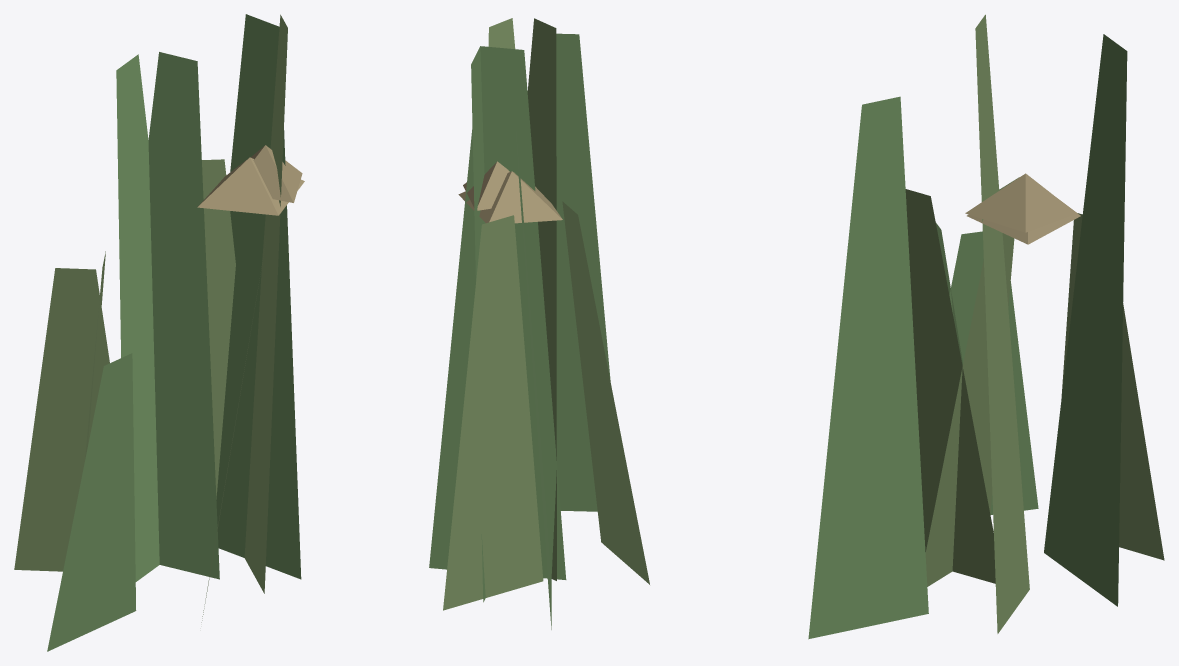
Rendered from shrub.trop.savanna_grass__summer.glb.
3 renders of one model, left to right at view 1: azimuth 30°, elevation 25°; view 2: azimuth 150°, elevation 25°; view 3: azimuth 270°, elevation 25°, orthographic. The views are drawn at different scales.
Parts seen in each view (by area): view 1: shrub.trop.savanna_grass__summer; view 2: shrub.trop.savanna_grass__summer; view 3: shrub.trop.savanna_grass__summer.
Boxes of the visible parts, x1=… form: shrub.trop.savanna_grass__summer: x1=14, y1=14, x2=304, y2=651; shrub.trop.savanna_grass__summer: x1=429, y1=18, x2=649, y2=629; shrub.trop.savanna_grass__summer: x1=808, y1=14, x2=1164, y2=639.
Size of the model in its own units: 0.7467 by 1.26 by 0.6909.
